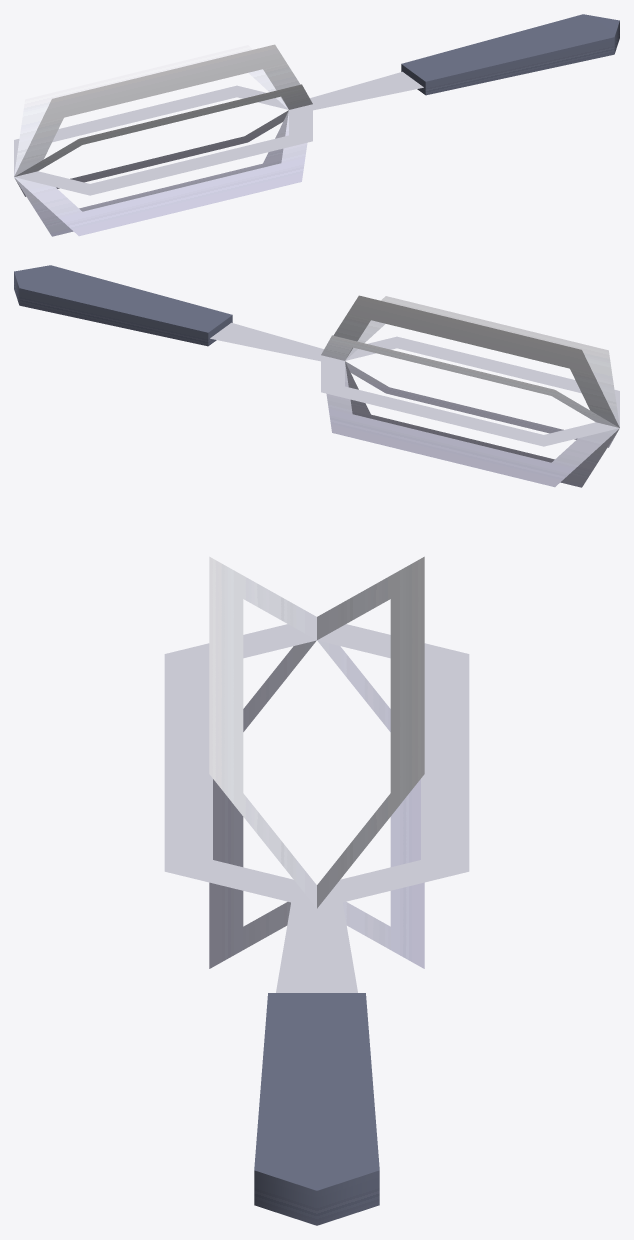
Rendered from whisk.glb.
The picture shows the model from 3 angles, top to bottom: view 1: azimuth 30°, elevation 25°; view 2: azimuth 150°, elevation 25°; view 3: azimuth 270°, elevation 25°; orthographic projection. The views are drawn at different scales.
Parts seen in each view (by area): view 1: whisk; view 2: whisk; view 3: whisk.
Boxes of the visible parts, x1,y1,x2,y2 form: whisk: (14, 14, 619, 236); whisk: (14, 265, 619, 487); whisk: (164, 556, 469, 1225).
Bounding box in the file's own units: 0.7244 × 0.1576 × 0.1576.
1 material, 1 textured.
